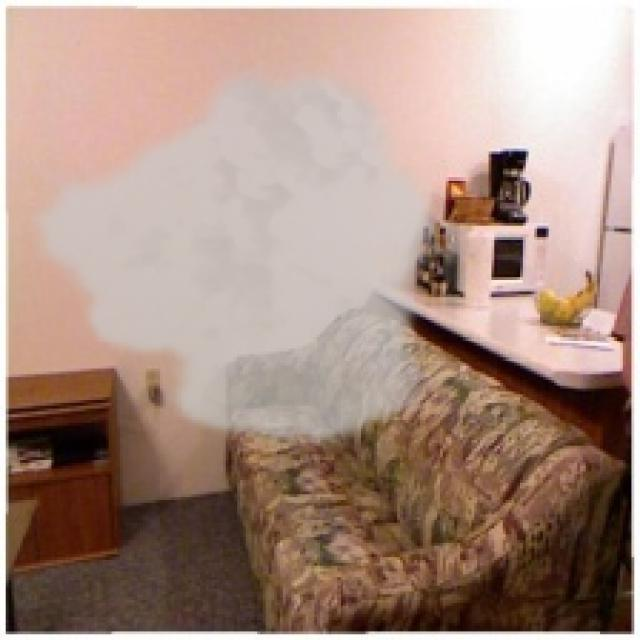Smoke: (23, 57, 440, 452)
